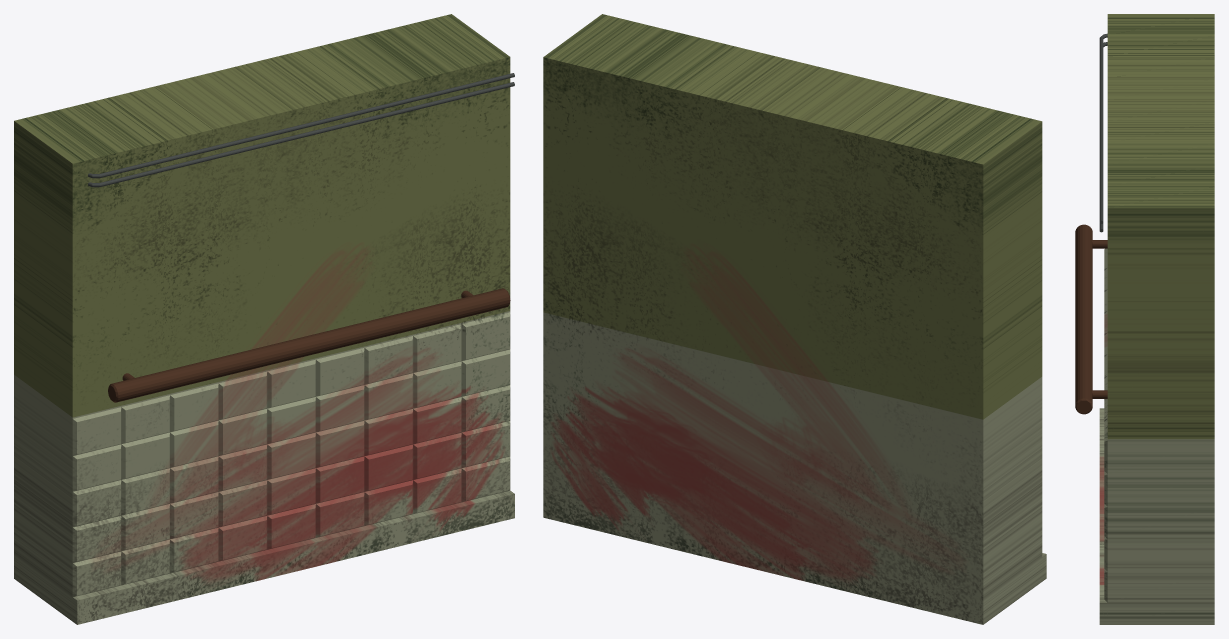
Rendered from Wall_1_L.fbx.
3 renders of one model, left to right at view 1: azimuth 30°, elevation 25°; view 2: azimuth 150°, elevation 25°; view 3: azimuth 270°, elevation 25°, orthographic. The views are drawn at different scales.
Visible parts, largest first — view 1: Wall_1; view 2: Wall_1; view 3: Wall_1.
Part boxes in pixels (x1,y1,x2,y2): Wall_1: (14,14,514,624); Wall_1: (543,14,1046,624); Wall_1: (1075,14,1214,624).
Bounding box in the file's own units: 4 × 4 × 1.21.
